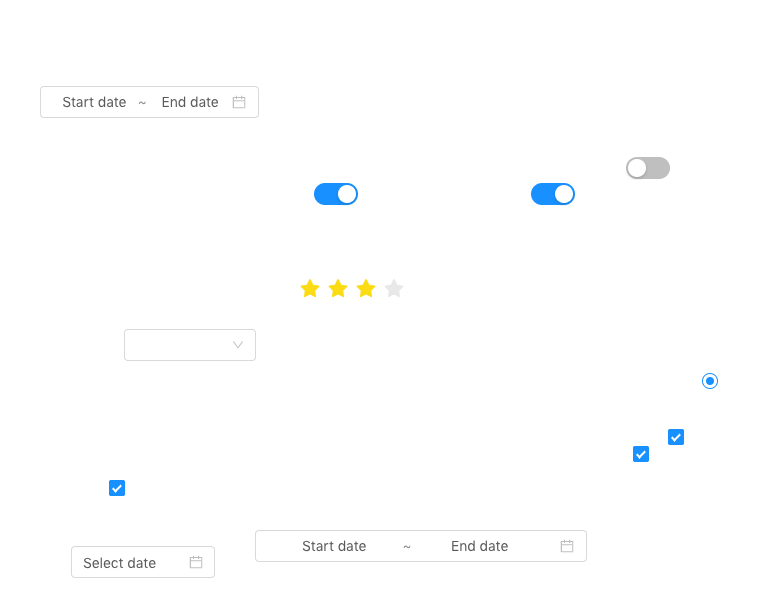Checkbox: (633, 443, 649, 464), (109, 477, 125, 498), (668, 426, 684, 447)
DatePicker: (71, 546, 215, 578)
Radio: (702, 370, 718, 390)
RangePicker: (255, 530, 656, 562), (40, 86, 259, 118)
Rate: (300, 272, 420, 304)
Select: (124, 329, 256, 361)
Switch: (531, 182, 575, 206), (626, 156, 670, 180), (314, 182, 358, 206)
